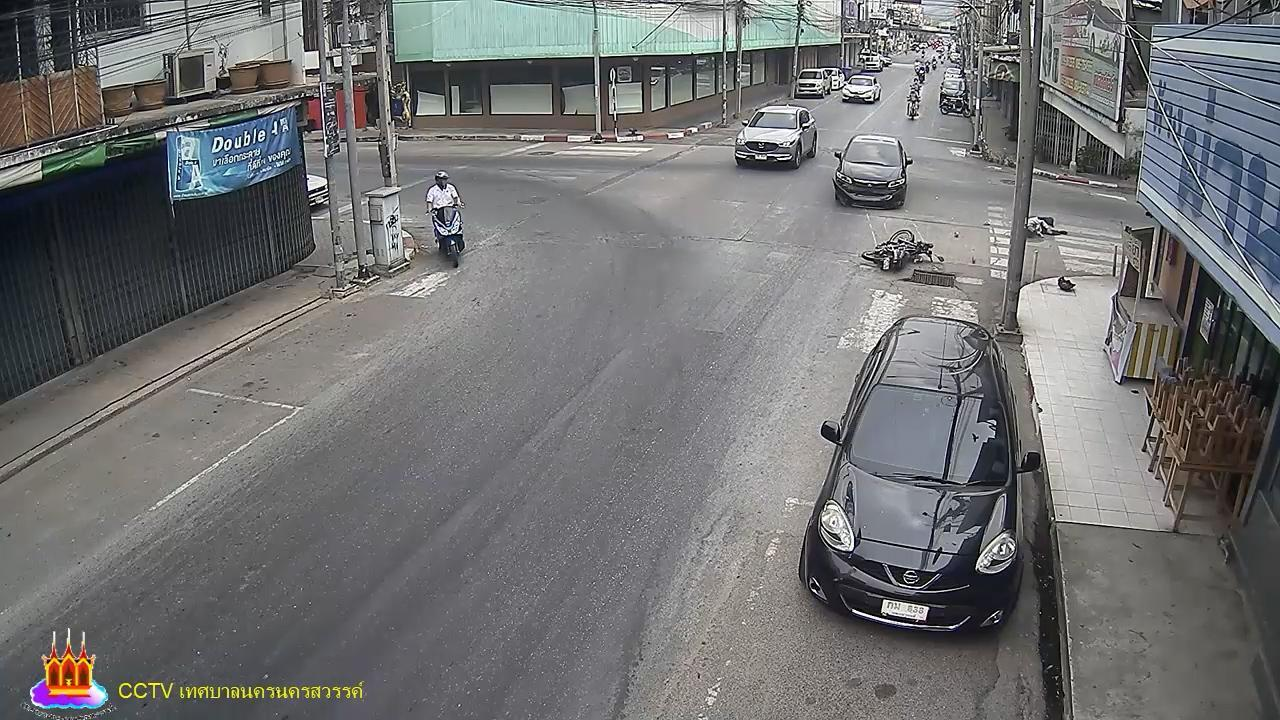accident: (1023, 210, 1068, 245)
